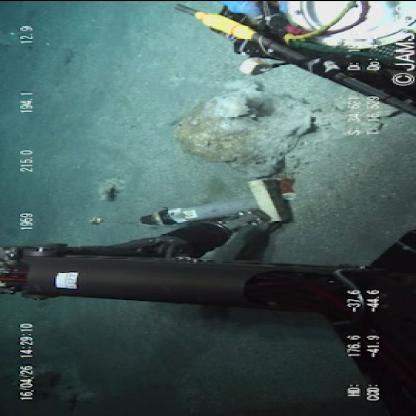Rov: (169, 1, 413, 119), (84, 174, 300, 230)
